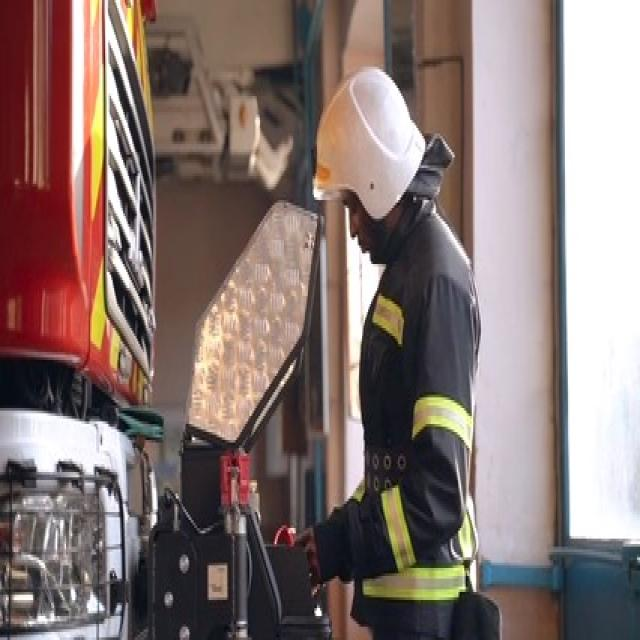Helmet_Wearer: (309, 70, 438, 244)
Jacket_Wearer: (347, 211, 478, 640)
Person: (284, 65, 482, 630)
